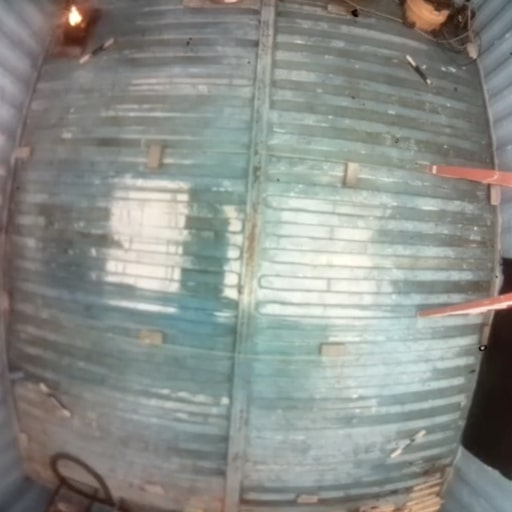Fire: (66, 6, 82, 27)
